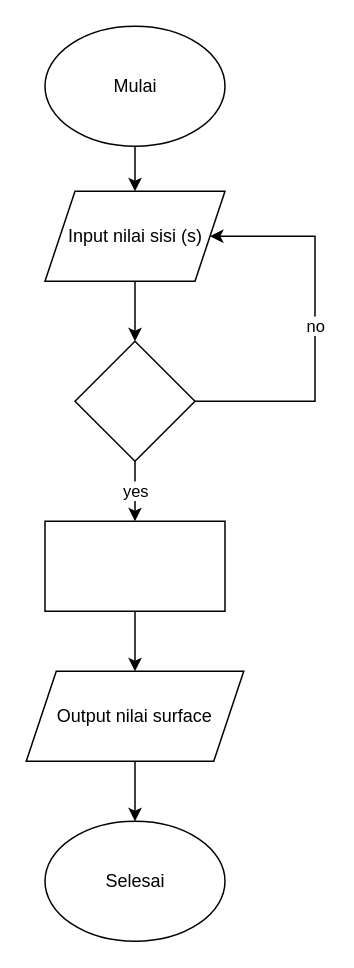
Image size: 354x968. Some labels were removed from this diagram. The box of each missing label's shape, as (x1, y1, x2, y2) in pixels:
Apakah s number?: (74, 340, 195, 461)
surface = 6 x s x s: (44, 520, 225, 611)
